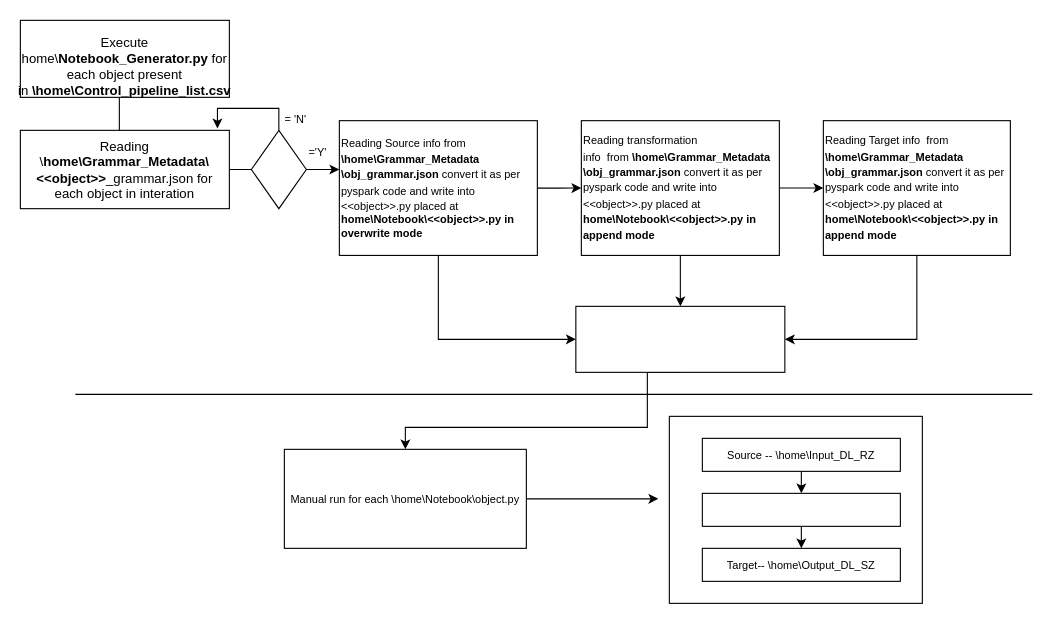
Image size: 1053x623. Some labels were removed from this diagram. Each missing label, with the box of its shape:
check is_active: (250, 129, 306, 209)
Executable notebook at home\Notebook\ for each object present in: (575, 305, 785, 372)
Transformation as per generated notebook: (701, 492, 900, 526)
